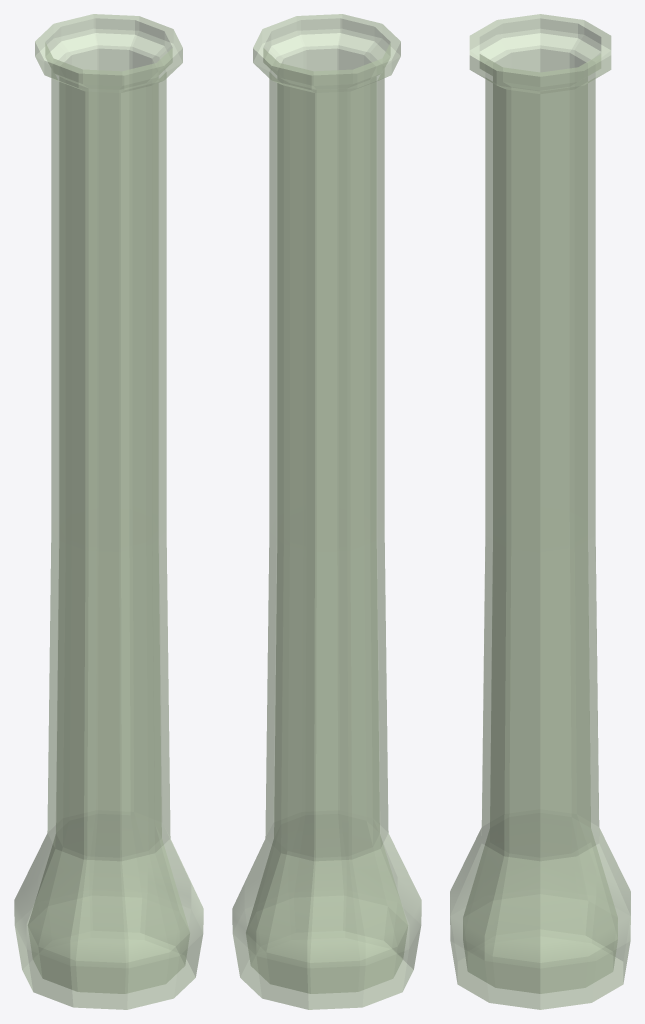
The model's file is tallpot.fbx.
The picture shows the model from 3 angles, left to right: view 1: azimuth 30°, elevation 25°; view 2: azimuth 150°, elevation 25°; view 3: azimuth 270°, elevation 25°; orthographic projection.
Visible parts, largest first — view 1: cyl3; view 2: cyl3; view 3: cyl3.
Boxes of the visible parts, x1,y1,x2,y2 form: cyl3: [14, 14, 203, 1009]; cyl3: [232, 14, 421, 1009]; cyl3: [450, 14, 630, 1009].
Bounding box in the file's own units: 0.2637 × 1.42 × 0.2508.
